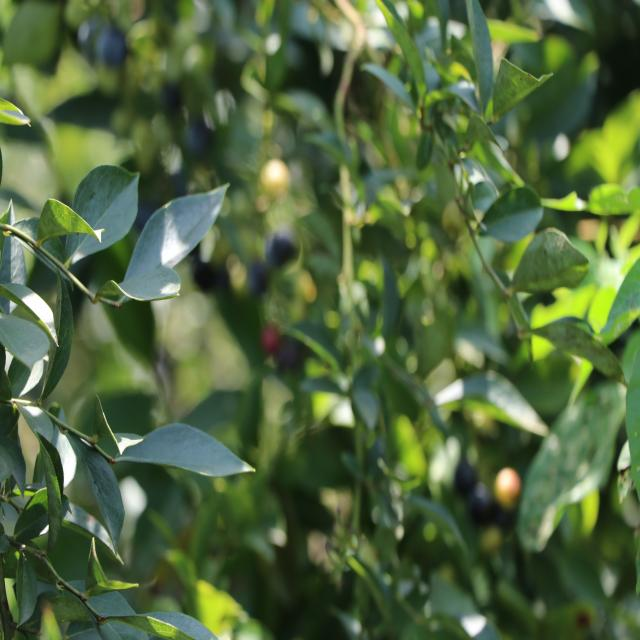blueberry: (268, 228, 300, 272)
blueberry-unripe: (258, 156, 292, 204), (492, 464, 523, 510)
